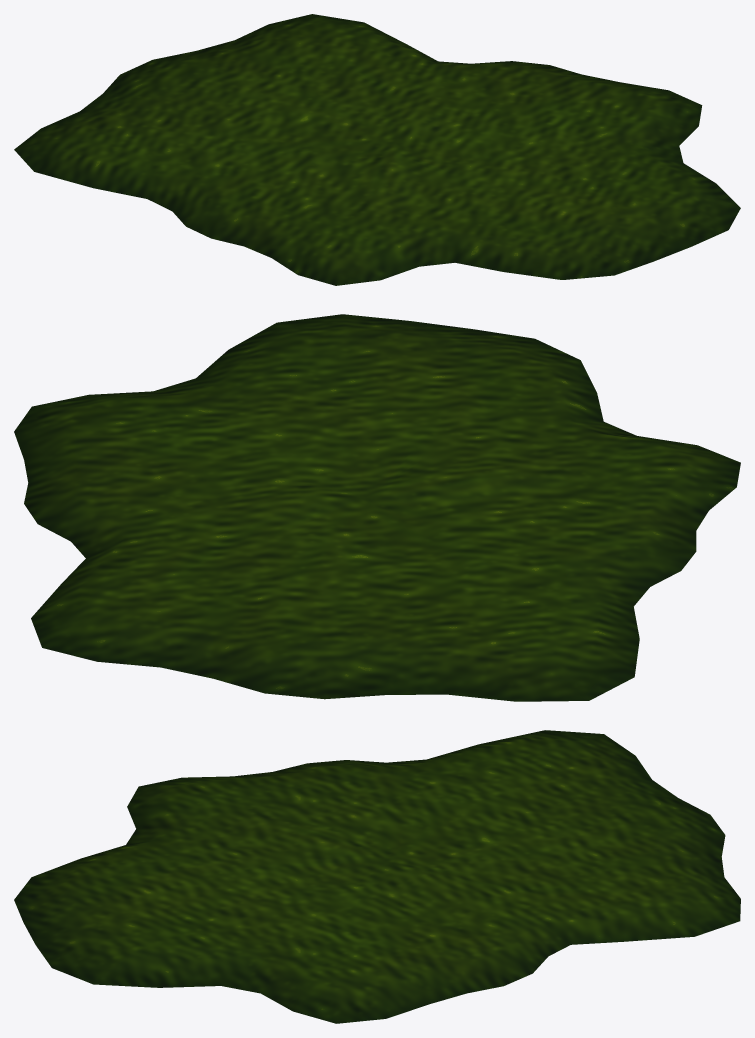
The model's file is eco_moss_mat_b_LOD0.glb.
The picture shows the model from 3 angles, top to bottom: view 1: azimuth 30°, elevation 25°; view 2: azimuth 150°, elevation 25°; view 3: azimuth 270°, elevation 25°; orthographic projection. The views are drawn at different scales.
Parts seen in each view (by area): view 1: eco_moss_mat_b_LOD0; view 2: eco_moss_mat_b_LOD0; view 3: eco_moss_mat_b_LOD0.
Part boxes in pixels (x1,y1,x2,y2): eco_moss_mat_b_LOD0: [14, 14, 740, 285]; eco_moss_mat_b_LOD0: [14, 314, 740, 701]; eco_moss_mat_b_LOD0: [14, 730, 740, 1023].
Bounding box in the file's own units: 0.9651 × 0.0293 × 1.01.
Materials: 1 (1 with a texture image).
